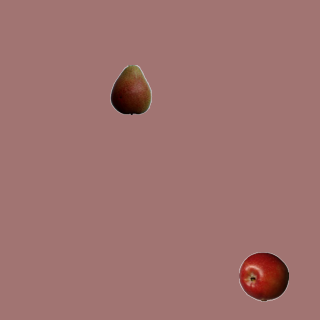Apple Braeburn: (238, 251, 288, 301)
Pear Forelle: (105, 64, 155, 114)
